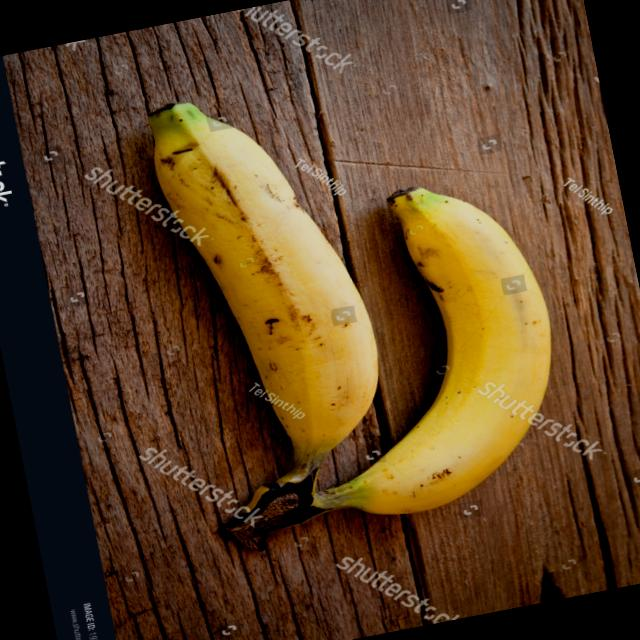Platano: (99, 39, 588, 569)
